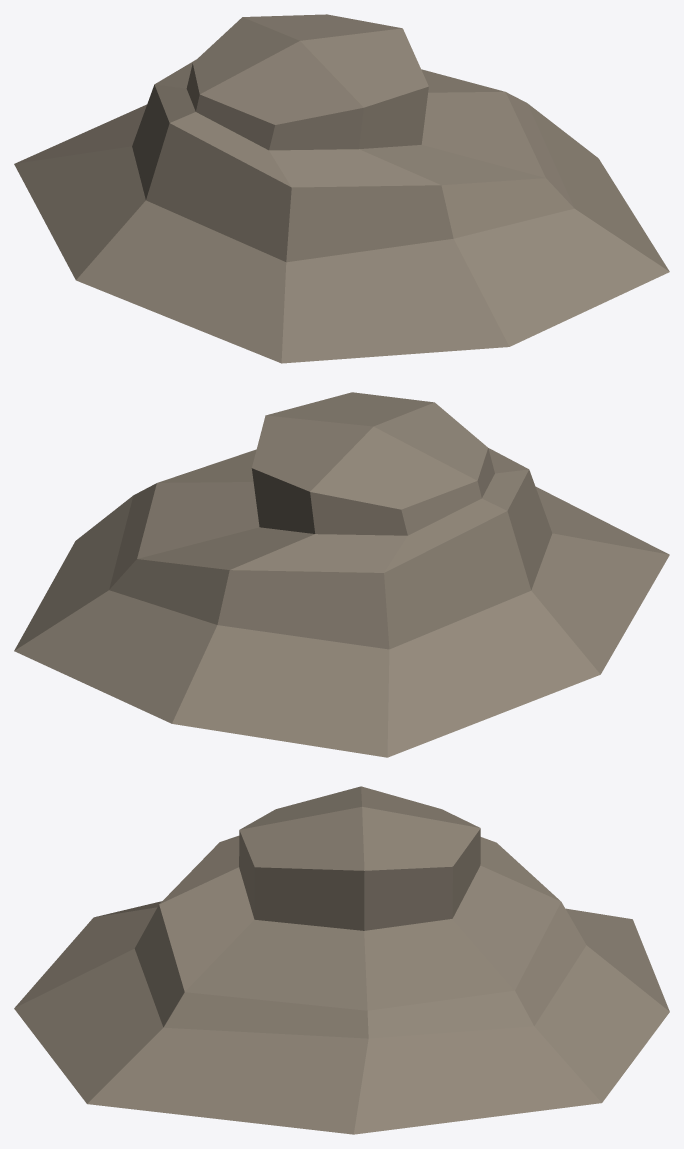
The model's file is stoneC-compressed.glb.
3 renders of one model, top to bottom at view 1: azimuth 30°, elevation 25°; view 2: azimuth 150°, elevation 25°; view 3: azimuth 270°, elevation 25°, orthographic. The views are drawn at different scales.
Parts seen in each view (by area): view 1: stoneC; view 2: stoneC; view 3: stoneC.
Part boxes in pixels (x1,y1,x2,y2): stoneC: (14, 14, 669, 363); stoneC: (14, 392, 669, 757); stoneC: (14, 786, 669, 1134).
Bounding box in the file's own units: 2.32 × 0.7999 × 2.57.
